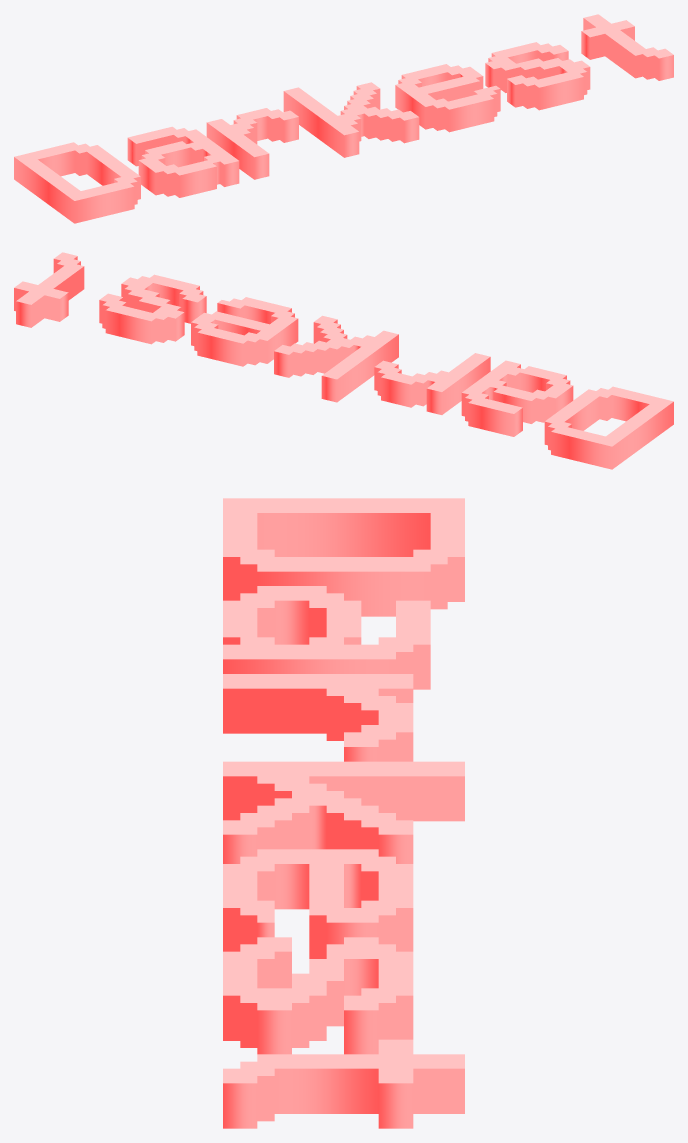
Rendered from darkest.glb.
3 views of the same model, one above another, from view 1: azimuth 30°, elevation 25°; view 2: azimuth 150°, elevation 25°; view 3: azimuth 270°, elevation 25° (orthographic). The views are drawn at different scales.
Visible parts, largest first — view 1: cards; view 2: cards; view 3: cards.
Boxes of the visible parts, bbox=[...] form: cards: bbox=[14, 14, 673, 223]; cards: bbox=[14, 252, 673, 469]; cards: bbox=[223, 498, 464, 1128].
Size of the model in its own units: 4.44 by 0.16 by 0.7778.
